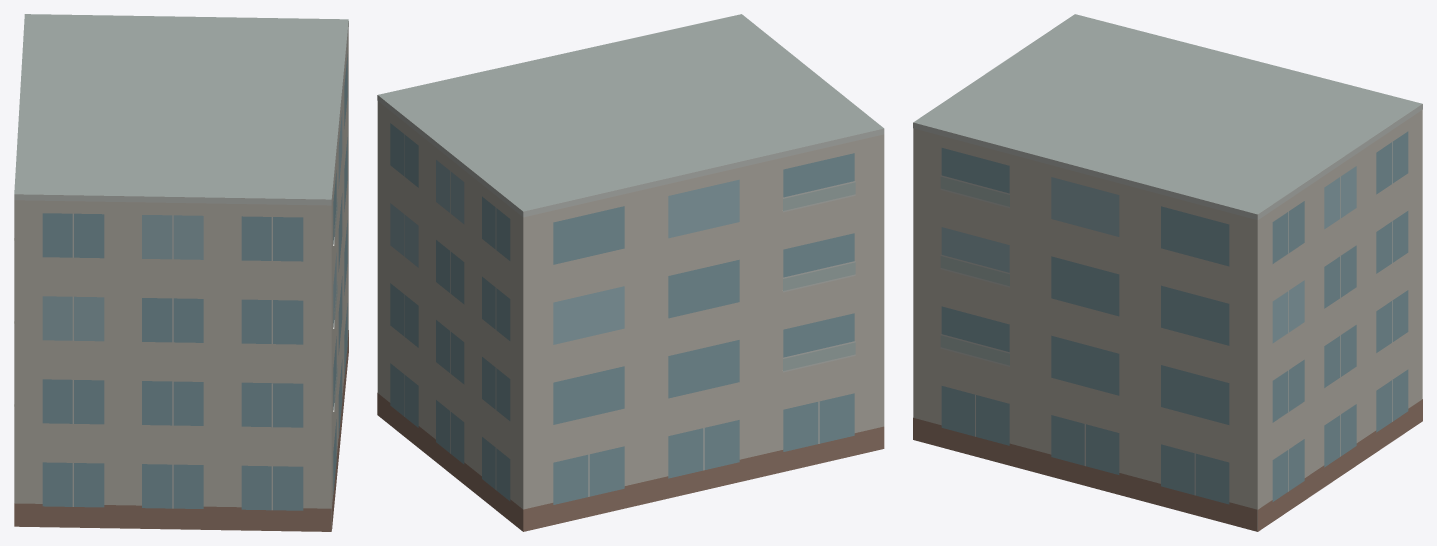
Rendered from survey-upis-33047049.glb.
The picture shows the model from 3 angles, left to right: view 1: azimuth 30°, elevation 25°; view 2: azimuth 150°, elevation 25°; view 3: azimuth 270°, elevation 25°; orthographic projection. The views are drawn at different scales.
Parts seen in each view (by area): view 1: survey-upis-33047049.tmp; view 2: survey-upis-33047049.tmp; view 3: survey-upis-33047049.tmp.
Boxes of the visible parts, box(x1,y1,x2,y2) form: survey-upis-33047049.tmp: box(14, 14, 348, 531); survey-upis-33047049.tmp: box(377, 14, 884, 531); survey-upis-33047049.tmp: box(913, 14, 1422, 531).
Size of the model in its own units: 18.3 by 13.5 by 19.66.
